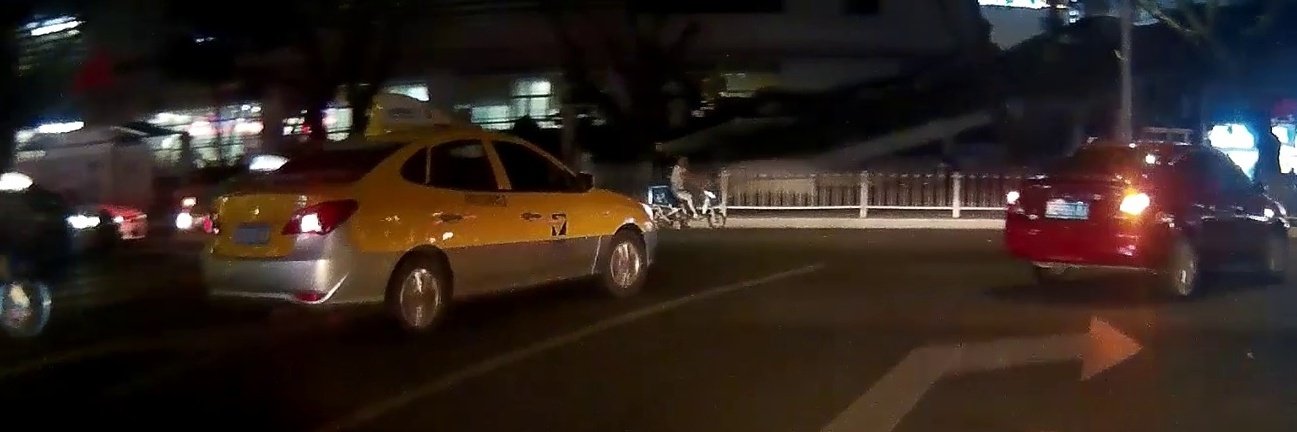L_light: (198, 201, 223, 235), (1005, 188, 1026, 211)
R_light: (279, 198, 360, 237), (1119, 192, 1151, 216)
T_light: (327, 140, 367, 151), (1111, 145, 1136, 151)
night-right: (195, 134, 417, 338), (1004, 138, 1186, 296)
